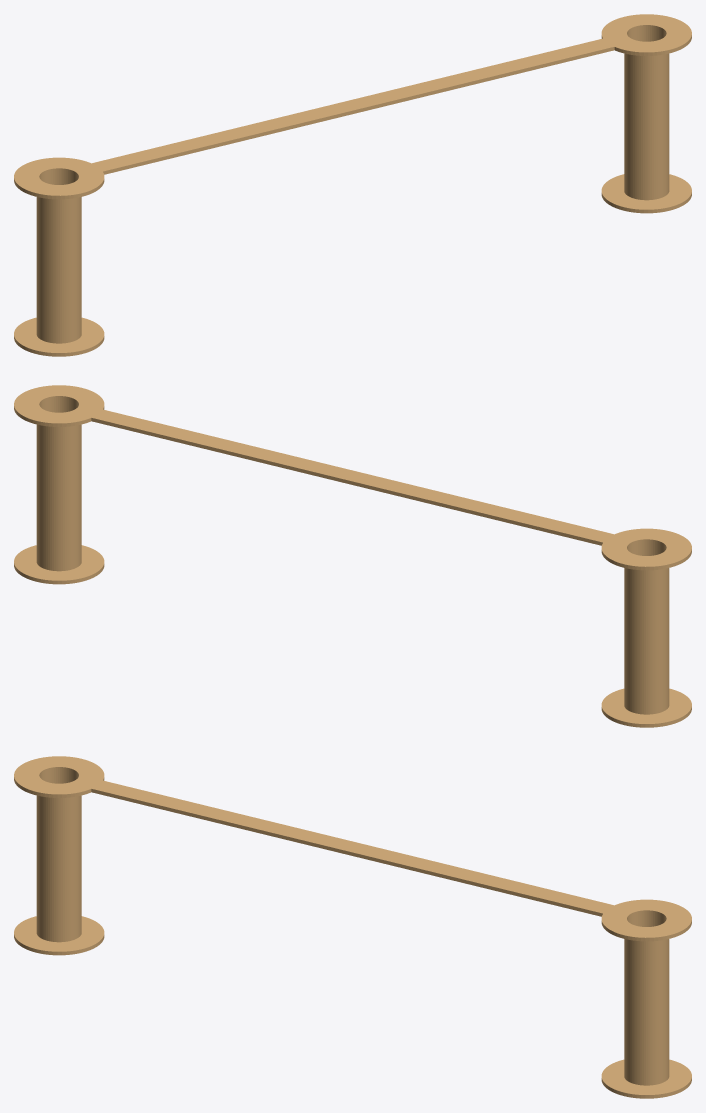
The model's file is board.glb.
The picture shows the model from 3 angles, top to bottom: view 1: azimuth 30°, elevation 25°; view 2: azimuth 150°, elevation 25°; view 3: azimuth 330°, elevation 25°; orthographic projection.
Visible parts, largest first — view 1: Unified_Net_2_Island_2, Bare_Via_Tube_1, Bare_Via_Tube_0, Unified_Net_1_Island_4, Unified_Net_1_Island_3, Unified_Net_1_Island_5, Unified_Net_1_Island_6; view 2: Unified_Net_2_Island_2, Bare_Via_Tube_1, Bare_Via_Tube_0, Unified_Net_1_Island_3, Unified_Net_1_Island_4, Unified_Net_1_Island_5, Unified_Net_1_Island_6; view 3: Unified_Net_2_Island_2, Bare_Via_Tube_1, Bare_Via_Tube_0, Unified_Net_1_Island_4, Unified_Net_1_Island_3, Unified_Net_1_Island_6, Unified_Net_1_Island_5.
Boxes of the visible parts, x1=… form: Unified_Net_2_Island_2: x1=71, y1=33, x2=634, y2=176; Bare_Via_Tube_1: x1=624, y1=26, x2=669, y2=200; Bare_Via_Tube_0: x1=36, y1=169, x2=81, y2=343; Unified_Net_1_Island_4: x1=601, y1=14, x2=691, y2=55; Unified_Net_1_Island_3: x1=14, y1=157, x2=104, y2=199; Unified_Net_1_Island_5: x1=14, y1=317, x2=104, y2=356; Unified_Net_1_Island_6: x1=601, y1=174, x2=691, y2=213; Unified_Net_2_Island_2: x1=71, y1=404, x2=634, y2=547; Bare_Via_Tube_1: x1=36, y1=397, x2=81, y2=571; Bare_Via_Tube_0: x1=624, y1=541, x2=669, y2=714; Unified_Net_1_Island_3: x1=601, y1=528, x2=691, y2=570; Unified_Net_1_Island_4: x1=14, y1=385, x2=104, y2=426; Unified_Net_1_Island_5: x1=601, y1=688, x2=691, y2=727; Unified_Net_1_Island_6: x1=14, y1=545, x2=104, y2=584; Unified_Net_2_Island_2: x1=71, y1=775, x2=634, y2=918; Bare_Via_Tube_1: x1=624, y1=911, x2=669, y2=1085; Bare_Via_Tube_0: x1=36, y1=768, x2=81, y2=942; Unified_Net_1_Island_4: x1=601, y1=899, x2=691, y2=941; Unified_Net_1_Island_3: x1=14, y1=756, x2=104, y2=797; Unified_Net_1_Island_6: x1=601, y1=1059, x2=691, y2=1098; Unified_Net_1_Island_5: x1=14, y1=916, x2=104, y2=955.
Bounding box in the file's own units: 0.0068 × 0.00157 × 0.0008.
